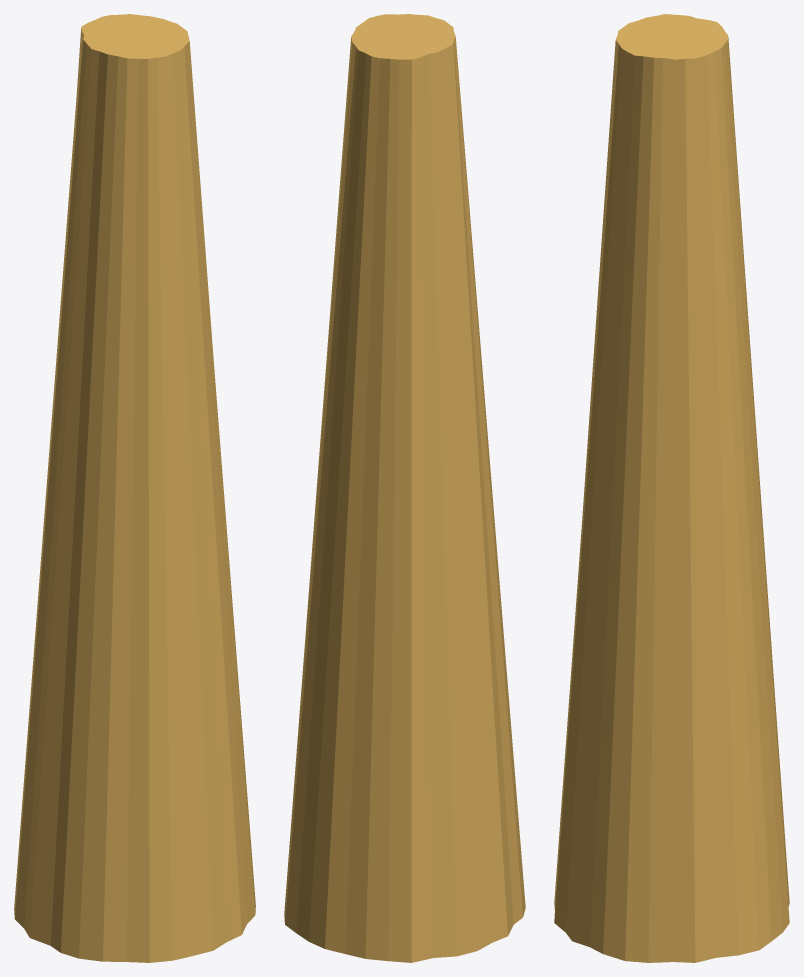
File: mybark.glb
3 renders of one model, left to right at view 1: azimuth 30°, elevation 25°; view 2: azimuth 150°, elevation 25°; view 3: azimuth 270°, elevation 25°, orthographic.
Visible parts, largest first — view 1: Cylinder; view 2: Cylinder; view 3: Cylinder.
Boxes of the visible parts, x1=… form: Cylinder: x1=14, y1=14, x2=255, y2=962; Cylinder: x1=284, y1=14, x2=525, y2=962; Cylinder: x1=554, y1=14, x2=789, y2=962.
Size of the model in its own units: 1.48 by 6.02 by 1.46.
